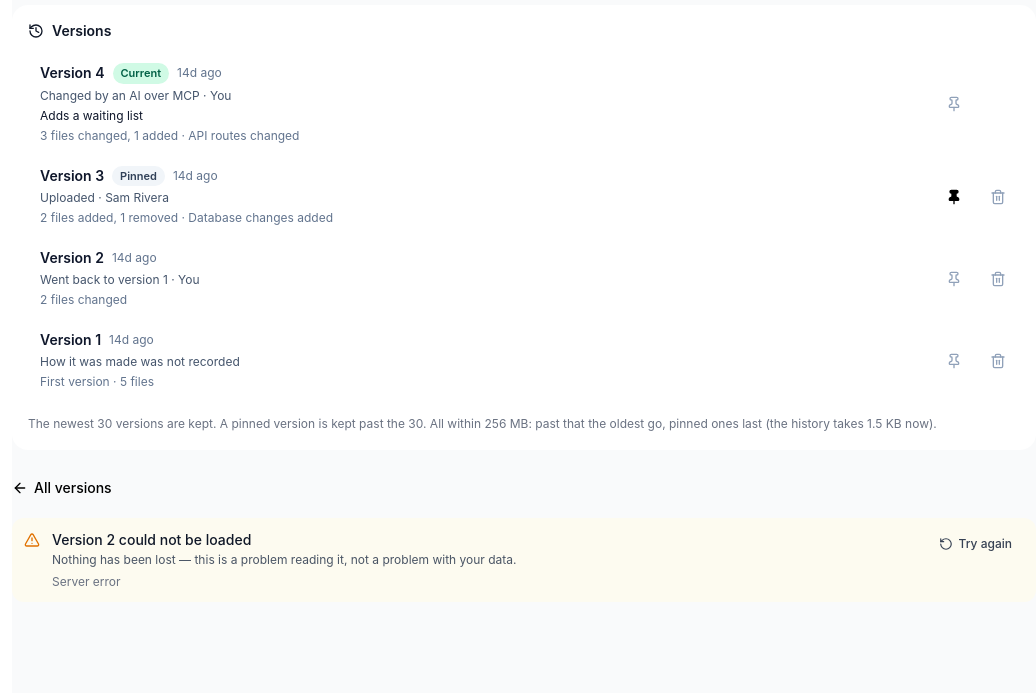
Test: one version › says a version is not kept any more, and that a read failed, each as what it is
Later steps or results of the test are not shown.
Click the button "Try again" at [975, 544], box left=927, top=530, right=1024, bottom=558
(page scrolled)
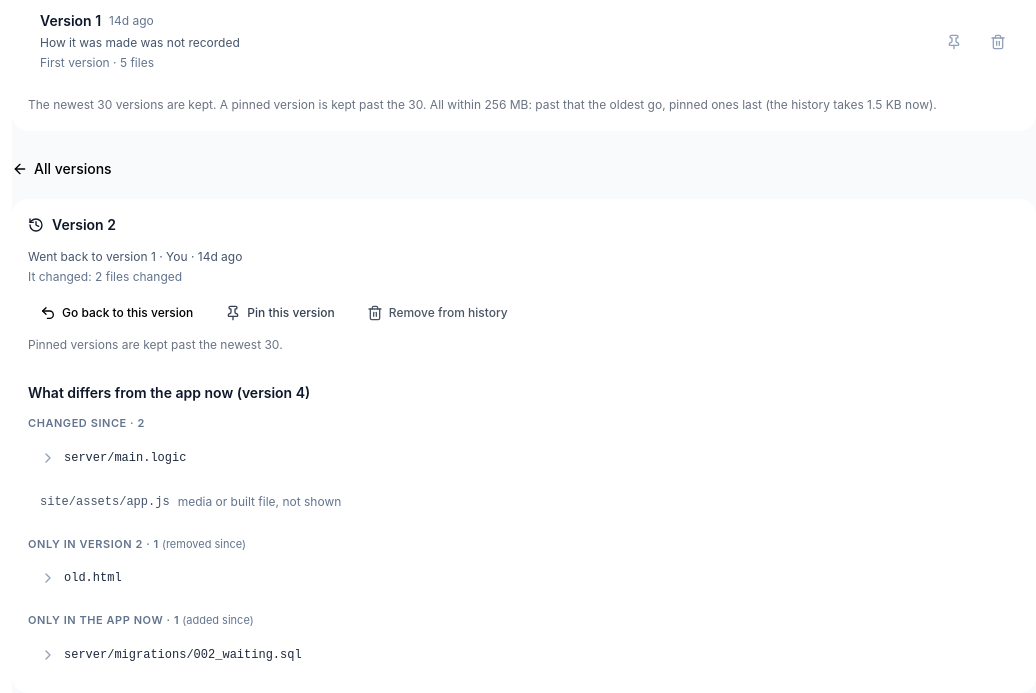
Expected: the element named "What differs from the app now" is shown, left=28, top=384, right=341, bottom=662
